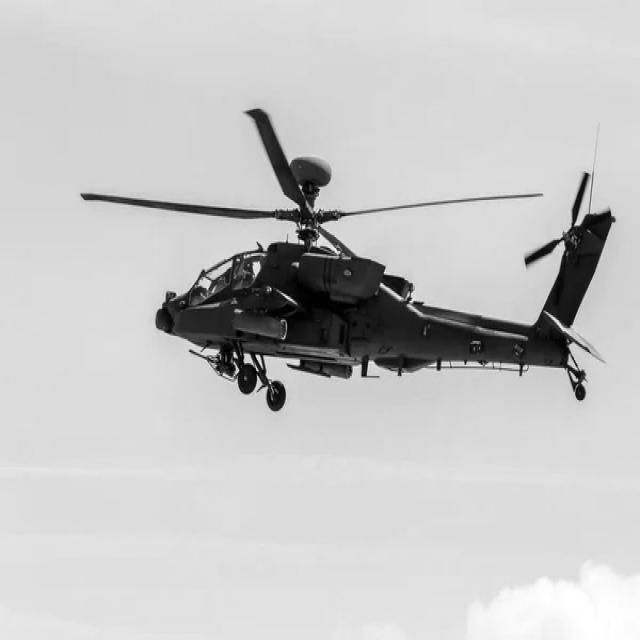Helicopter: (82, 109, 617, 410)
